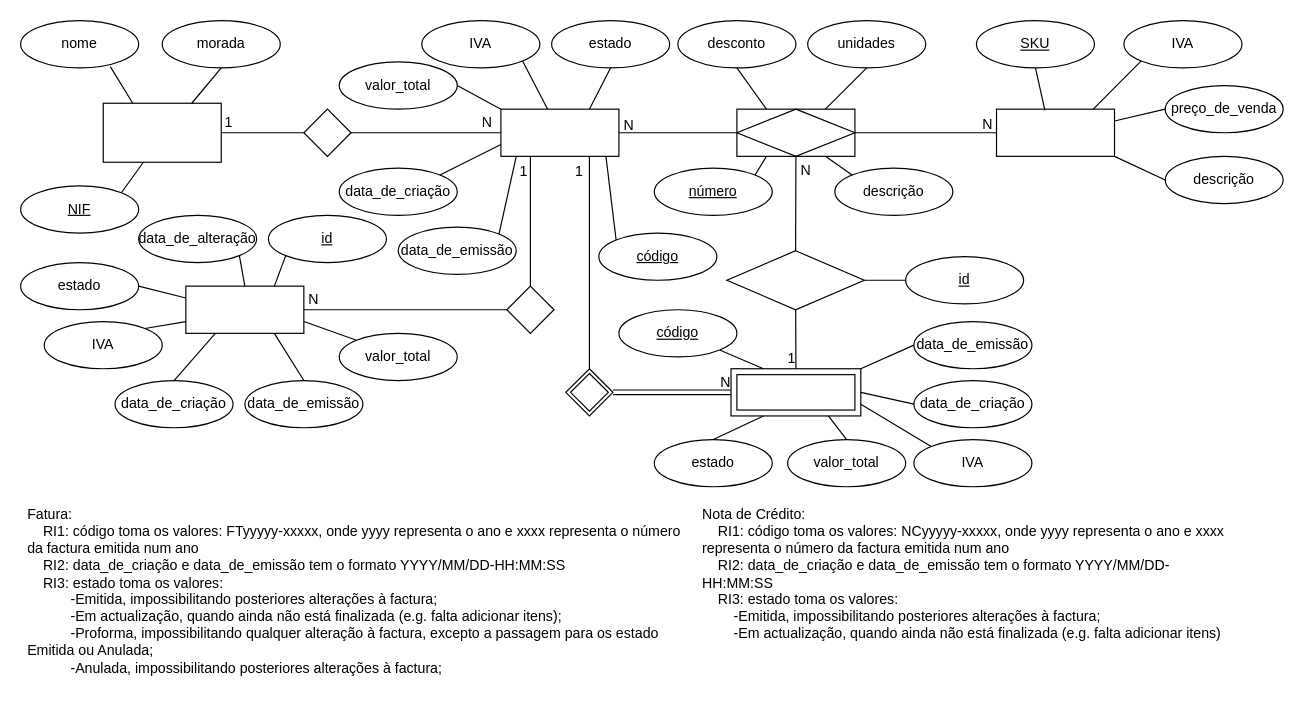
Image size: 1304x712. Some labels were removed from this diagram. Here are the shapes that lost their labels. From the top down, the centre of each, then its label:
[161,132]: Contribuinte
[559,132]: Fatura
[795,132]: Item
[1055,132]: Produto
[795,280]: ItemAcreditado
[244,309]: Alteração
[795,392]: Nota de Crédito
